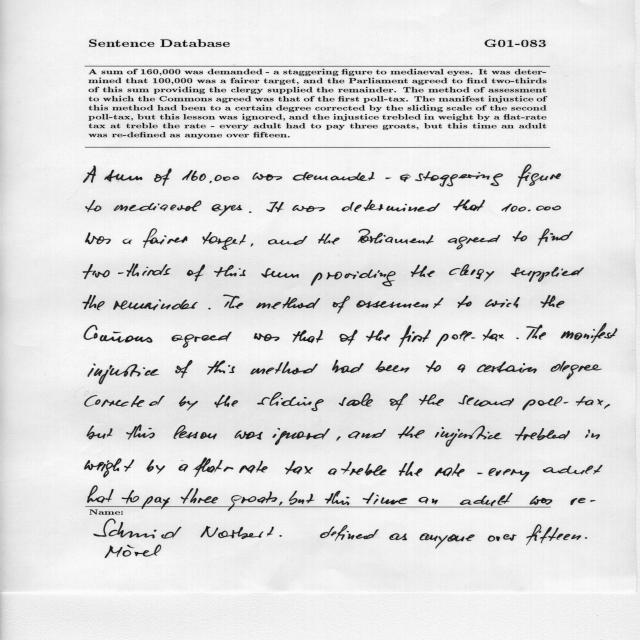word: (86, 485, 358, 507), (86, 494, 358, 507), (88, 364, 159, 385), (435, 425, 502, 447), (311, 270, 396, 287), (193, 458, 268, 477), (415, 171, 503, 187), (83, 264, 171, 279), (257, 392, 324, 411), (84, 325, 152, 343), (436, 329, 504, 347), (341, 200, 440, 212), (358, 229, 434, 244), (561, 323, 618, 343), (523, 397, 604, 411), (511, 267, 584, 282), (172, 331, 232, 348), (517, 165, 561, 188), (85, 458, 135, 478), (273, 428, 331, 445), (114, 201, 202, 212), (356, 298, 444, 309), (85, 395, 165, 407), (550, 361, 602, 379), (113, 300, 198, 311), (250, 362, 318, 375), (143, 229, 187, 248), (449, 264, 494, 282), (202, 232, 246, 250), (448, 235, 500, 250), (515, 427, 570, 441), (256, 297, 320, 309), (325, 491, 375, 506), (182, 170, 239, 183), (293, 172, 375, 181), (477, 362, 537, 374), (399, 325, 431, 347), (341, 461, 387, 476), (538, 228, 573, 246), (458, 395, 514, 406), (173, 425, 217, 439), (489, 468, 530, 482), (543, 465, 602, 474), (501, 204, 561, 212), (339, 393, 373, 407), (104, 170, 143, 182), (126, 425, 155, 440), (207, 360, 235, 375), (435, 463, 465, 477), (332, 360, 364, 373), (285, 461, 313, 475), (293, 330, 323, 343), (485, 297, 520, 308), (214, 265, 246, 277), (261, 268, 299, 278), (348, 429, 386, 439), (376, 361, 410, 372), (87, 426, 113, 440), (473, 495, 506, 506), (212, 204, 242, 216), (268, 236, 308, 245), (399, 462, 423, 477), (453, 200, 485, 211), (398, 426, 425, 439), (374, 495, 408, 505), (83, 295, 105, 310), (154, 168, 172, 186), (389, 394, 408, 411), (85, 233, 111, 245), (541, 295, 565, 308), (214, 395, 238, 408), (187, 265, 205, 282), (176, 360, 193, 378), (526, 325, 546, 340), (419, 394, 444, 406), (234, 430, 263, 440), (333, 296, 350, 313), (411, 265, 435, 277), (366, 330, 390, 342), (179, 396, 198, 411), (147, 459, 166, 474), (223, 295, 243, 309), (340, 330, 358, 345), (253, 172, 282, 181), (318, 234, 340, 245), (83, 165, 96, 183), (292, 205, 325, 212), (254, 333, 280, 341), (266, 202, 284, 213), (530, 496, 552, 505), (86, 200, 101, 212), (458, 296, 472, 308), (426, 361, 441, 372), (585, 430, 600, 440), (501, 492, 513, 504), (513, 231, 527, 241), (578, 498, 596, 503), (400, 174, 410, 182), (178, 464, 188, 472), (460, 499, 472, 505), (419, 497, 429, 504), (458, 364, 465, 373), (328, 469, 337, 476), (123, 239, 132, 244), (571, 498, 577, 505), (432, 499, 438, 505), (604, 404, 610, 409), (336, 436, 341, 441), (251, 243, 253, 247), (249, 211, 252, 213), (208, 308, 211, 310), (386, 178, 391, 179), (478, 473, 483, 474), (516, 338, 519, 339)
